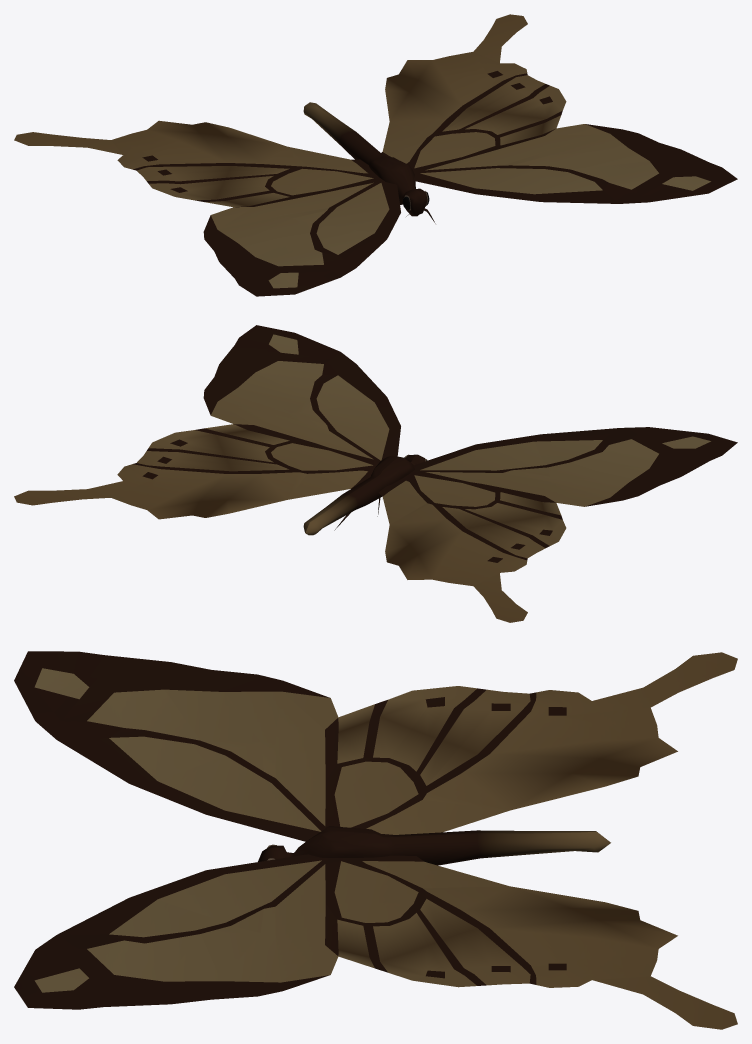
The model's file is animals-flyinginsects-mockerswallowtailbutterfly_v1.fbx.
The picture shows the model from 3 angles, top to bottom: view 1: azimuth 30°, elevation 25°; view 2: azimuth 150°, elevation 25°; view 3: azimuth 270°, elevation 25°; orthographic projection. The views are drawn at different scales.
Parts seen in each view (by area): view 1: MockerSwallowtailButterfly.001; view 2: MockerSwallowtailButterfly.001; view 3: MockerSwallowtailButterfly.001.
Boxes of the visible parts, x1,y1,x2,y2 form: MockerSwallowtailButterfly.001: (14, 14, 737, 296); MockerSwallowtailButterfly.001: (14, 325, 737, 622); MockerSwallowtailButterfly.001: (14, 651, 737, 1029).
Size of the model in its own units: 0.9534 by 0.1079 by 0.7728.
